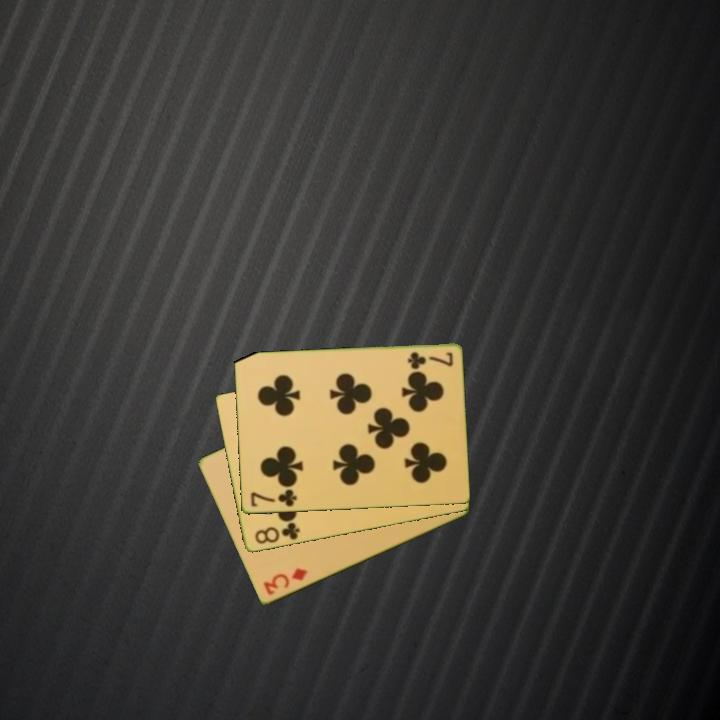3d: (259, 565, 310, 598)
7c: (247, 486, 299, 510), (404, 349, 456, 371)
8c: (251, 519, 302, 547)
